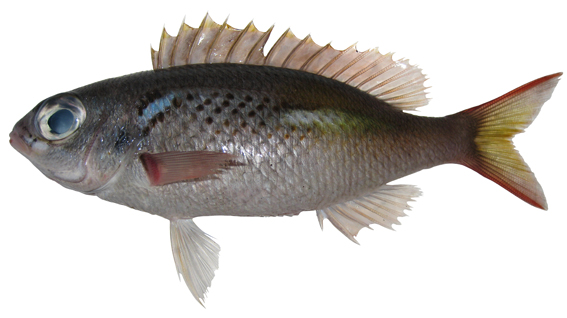fish: (9, 12, 563, 310)
